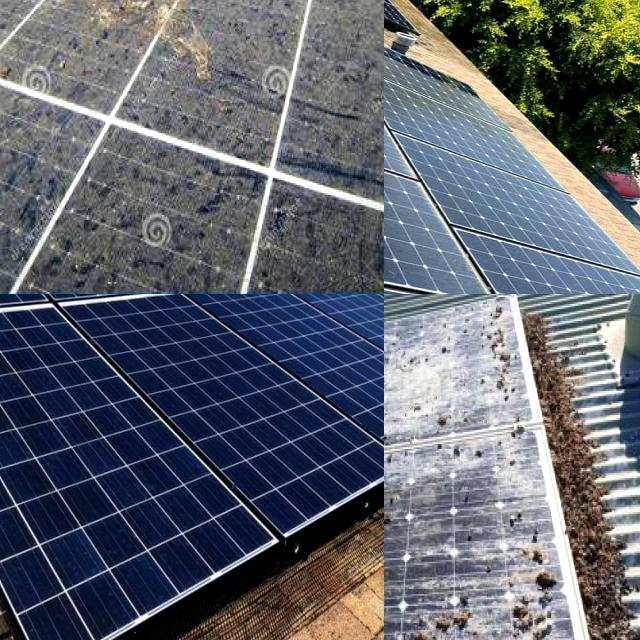bird: (36, 0, 244, 90), (500, 500, 560, 591), (401, 592, 505, 640), (433, 394, 486, 464), (485, 308, 521, 378), (384, 472, 418, 532), (504, 602, 555, 640), (500, 396, 535, 446), (384, 408, 413, 454), (384, 396, 410, 440), (384, 424, 402, 477), (384, 554, 398, 591)
crack: (44, 294, 384, 599), (0, 300, 286, 640), (186, 294, 384, 463), (62, 294, 266, 364), (0, 294, 172, 361), (146, 294, 326, 353), (0, 294, 127, 369), (0, 294, 148, 342), (231, 294, 384, 340), (61, 294, 220, 338), (0, 294, 95, 355)
dust: (384, 113, 492, 240), (384, 27, 456, 181), (384, 192, 467, 278), (384, 0, 481, 51)
